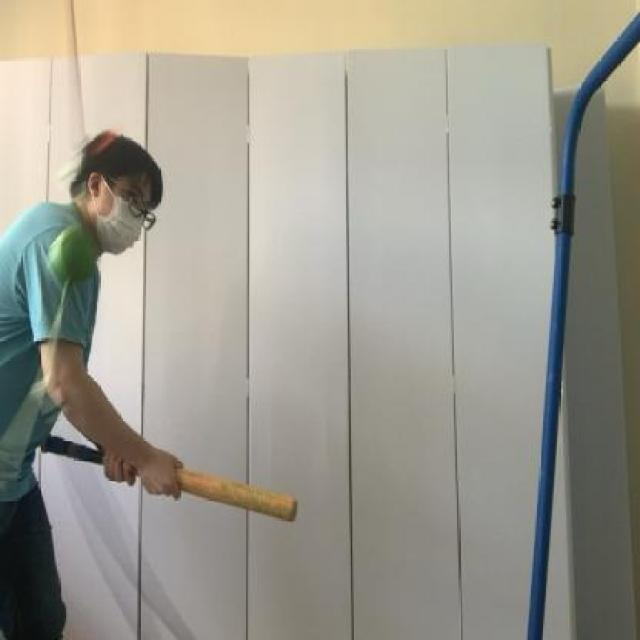baseball: (43, 210, 103, 296)
